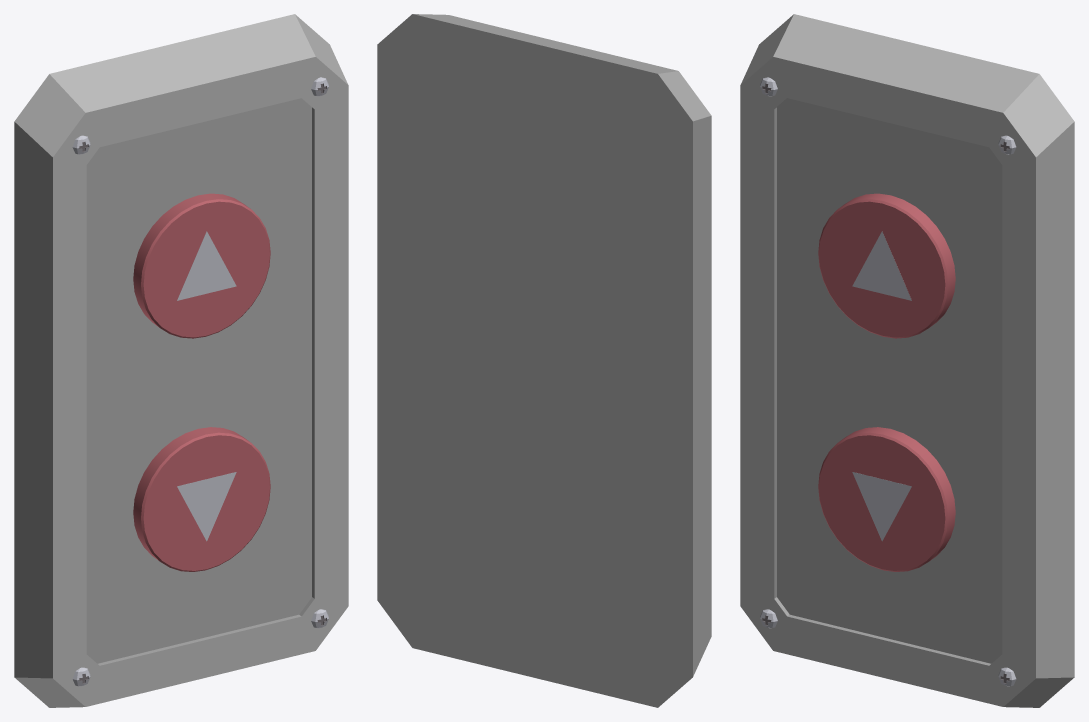
The model's file is BidirectionalPanel.fbx.
3 views of the same model, side by side, from view 1: azimuth 30°, elevation 25°; view 2: azimuth 150°, elevation 25°; view 3: azimuth 330°, elevation 25° (orthographic).
Parts seen in each view (by area): view 1: Bidirectional_Panel, Top_Button, Bottom_Button; view 2: Bidirectional_Panel; view 3: Bidirectional_Panel, Top_Button, Bottom_Button.
Part boxes in pixels (left/top/right/bottom): Bidirectional_Panel: left=14, top=14, right=348, bottom=707; Top_Button: left=133, top=193, right=270, bottom=338; Bottom_Button: left=133, top=427, right=270, bottom=571; Bidirectional_Panel: left=377, top=14, right=711, bottom=707; Bidirectional_Panel: left=740, top=14, right=1074, bottom=707; Top_Button: left=818, top=193, right=955, bottom=338; Bottom_Button: left=818, top=427, right=955, bottom=571.
Size of the model in its own units: 85.35 by 164 by 16.27.
